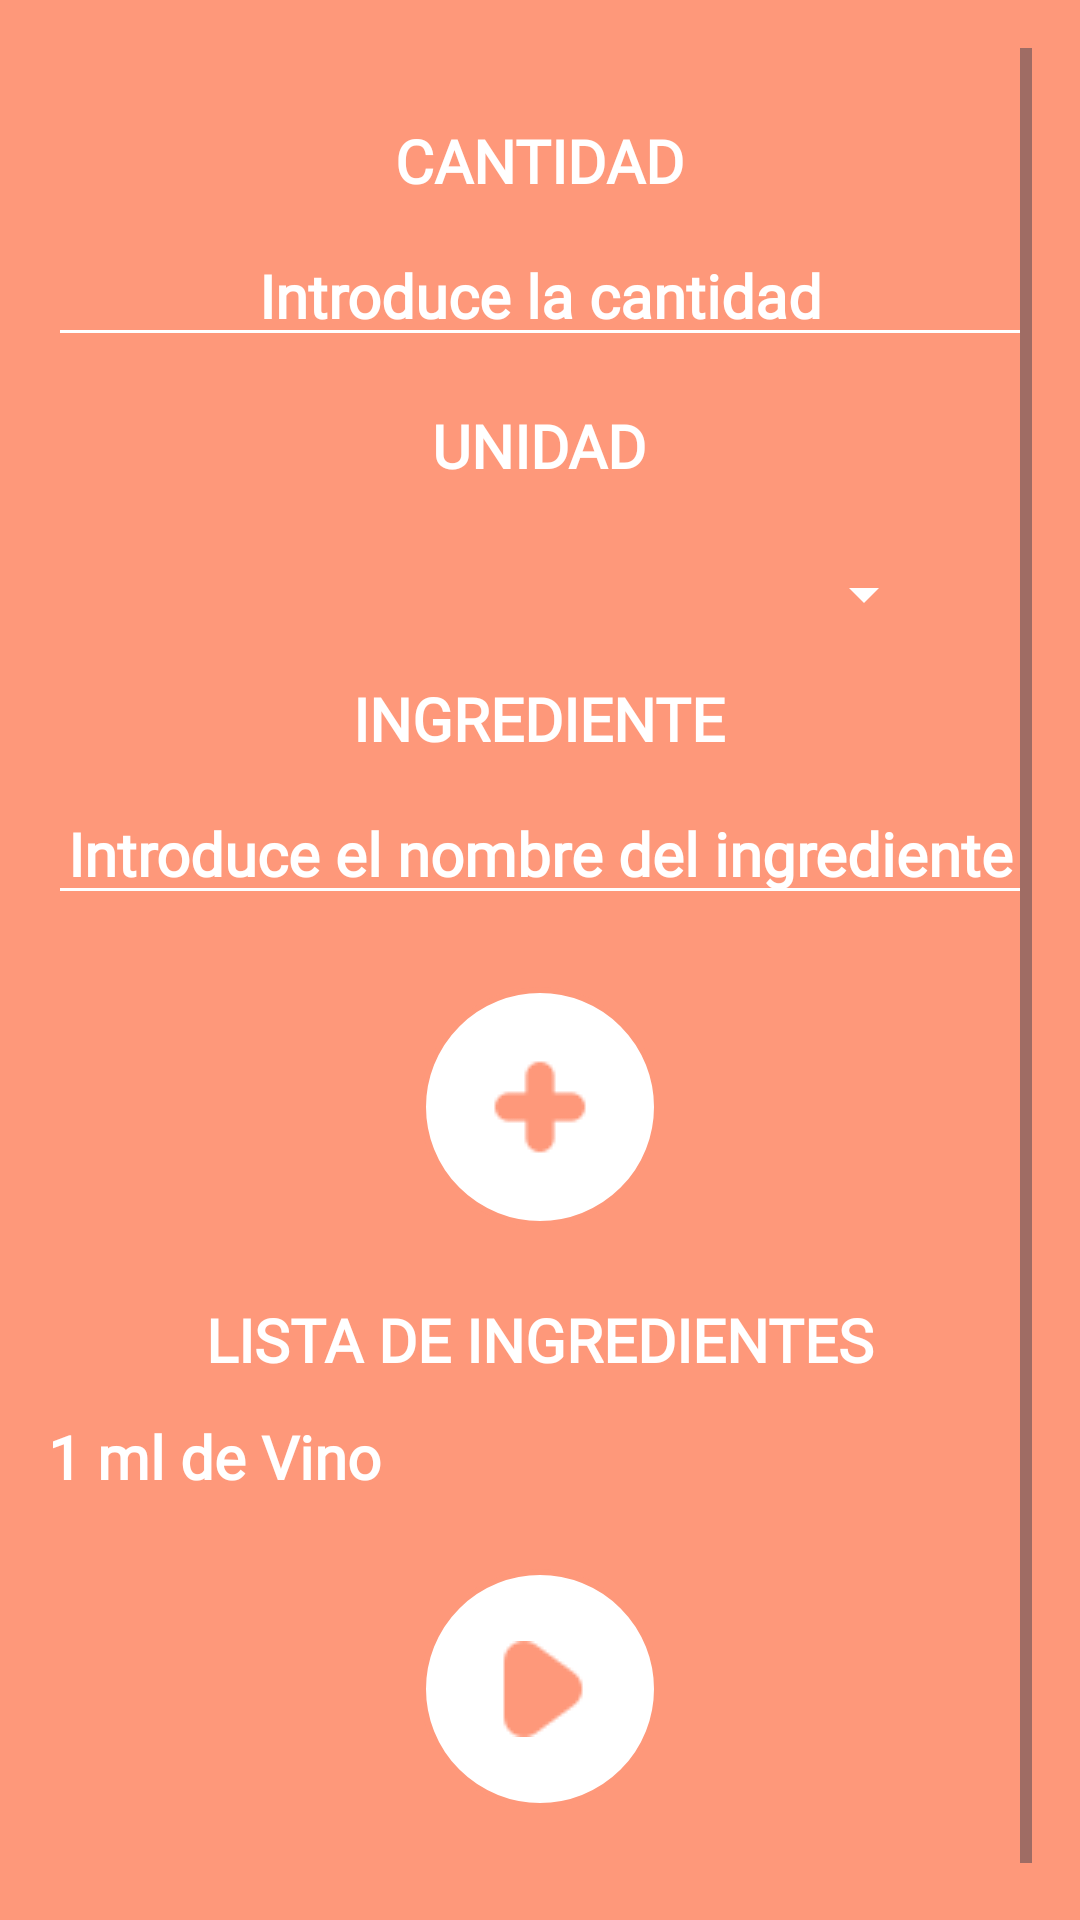

Icon bounding boxes for this 1080w x 1920h phone screenshot, format (x1, y1, x2, y2):
agregar ingrediente: (426, 993, 654, 1221)
siguiente: (426, 1575, 654, 1803)
